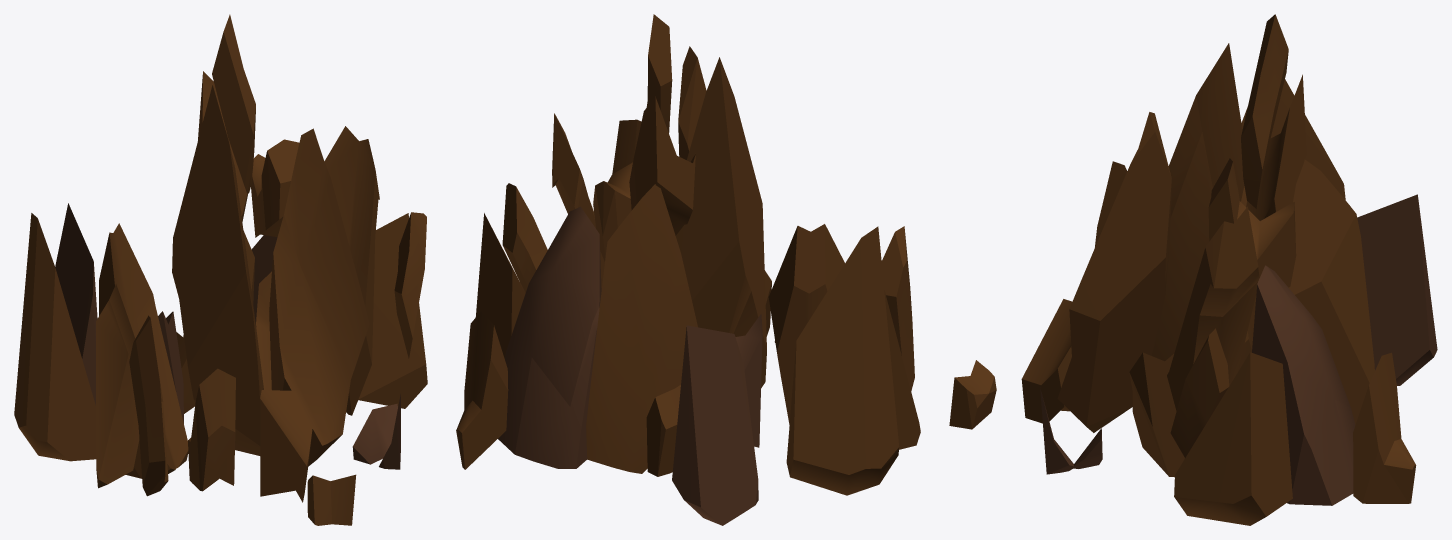
The model's file is urn_broken.glb.
3 views of the same model, side by side, from view 1: azimuth 30°, elevation 25°; view 2: azimuth 150°, elevation 25°; view 3: azimuth 270°, elevation 25° (orthographic). The views are drawn at different scales.
Visible parts, largest first — view 1: Vase_Rubble_Medium; view 2: Vase_Rubble_Medium; view 3: Vase_Rubble_Medium.
Boxes of the visible parts, x1,y1,x2,y2 form: Vase_Rubble_Medium: (14,14,427,525); Vase_Rubble_Medium: (456,14,920,525); Vase_Rubble_Medium: (949,14,1437,525).
Bounding box in the file's own units: 1 × 1 × 1.
